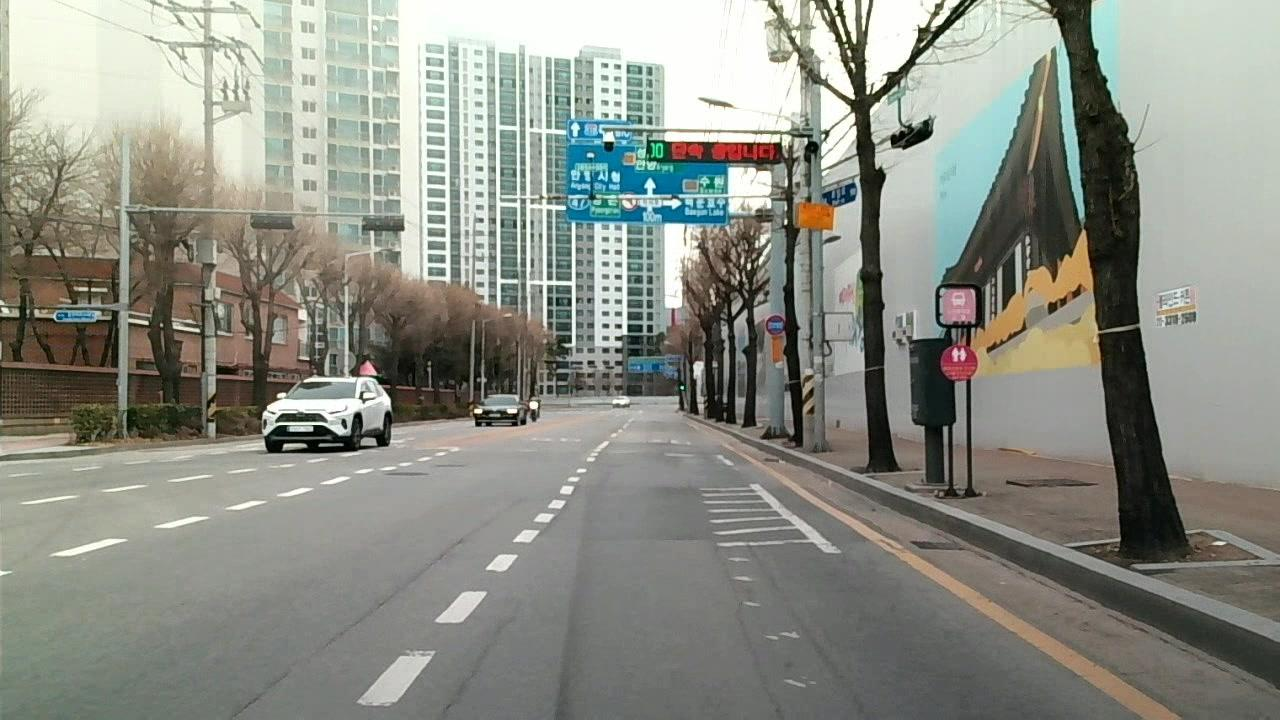banner: (319, 547, 454, 647), (741, 623, 789, 720), (422, 658, 480, 720), (219, 671, 288, 719)
